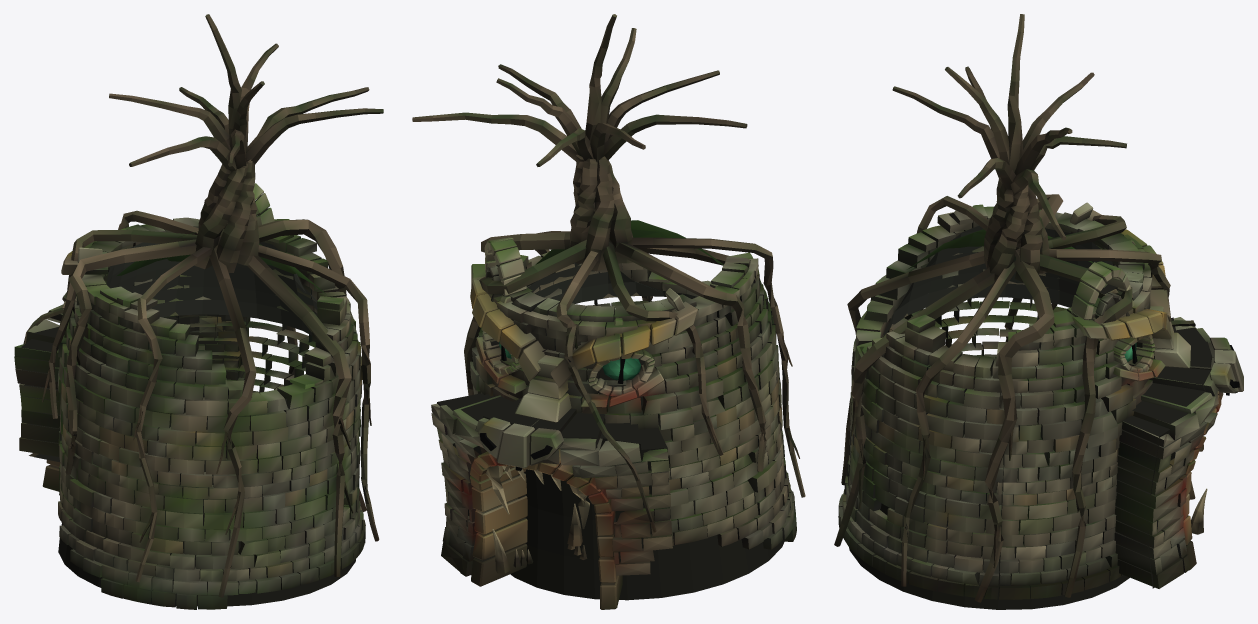
Rendered from wildheart_basin_entrance.glb.
3 views of the same model, side by side, from view 1: azimuth 30°, elevation 25°; view 2: azimuth 150°, elevation 25°; view 3: azimuth 270°, elevation 25° (orthographic).
Parts seen in each view (by area): view 1: Entrance_Idol; view 2: Entrance_Idol; view 3: Entrance_Idol.
Boxes of the visible parts, x1,y1,x2,y2 form: Entrance_Idol: (14, 14, 383, 609); Entrance_Idol: (412, 14, 805, 609); Entrance_Idol: (834, 14, 1243, 609).
Size of the model in its own units: 19.77 by 30.6 by 21.05.
